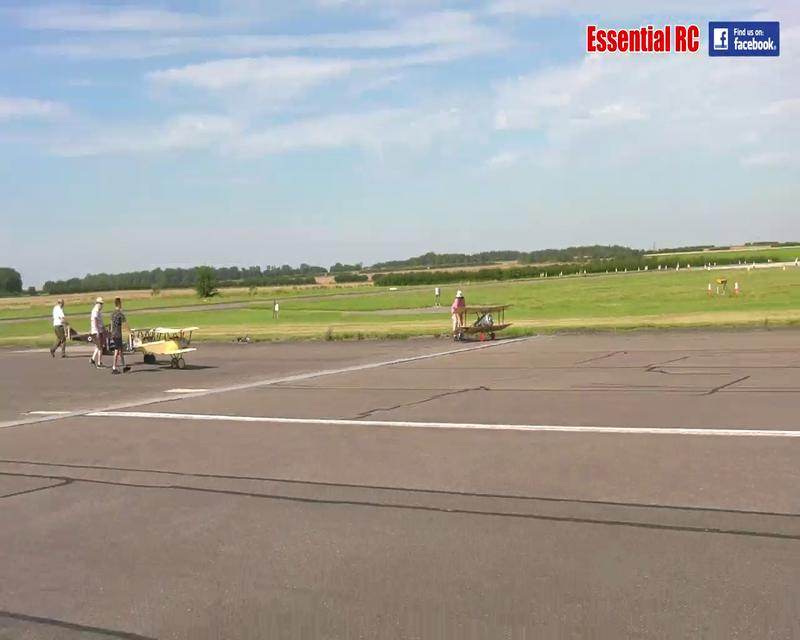UAV: (125, 320, 196, 366), (454, 304, 513, 342)
